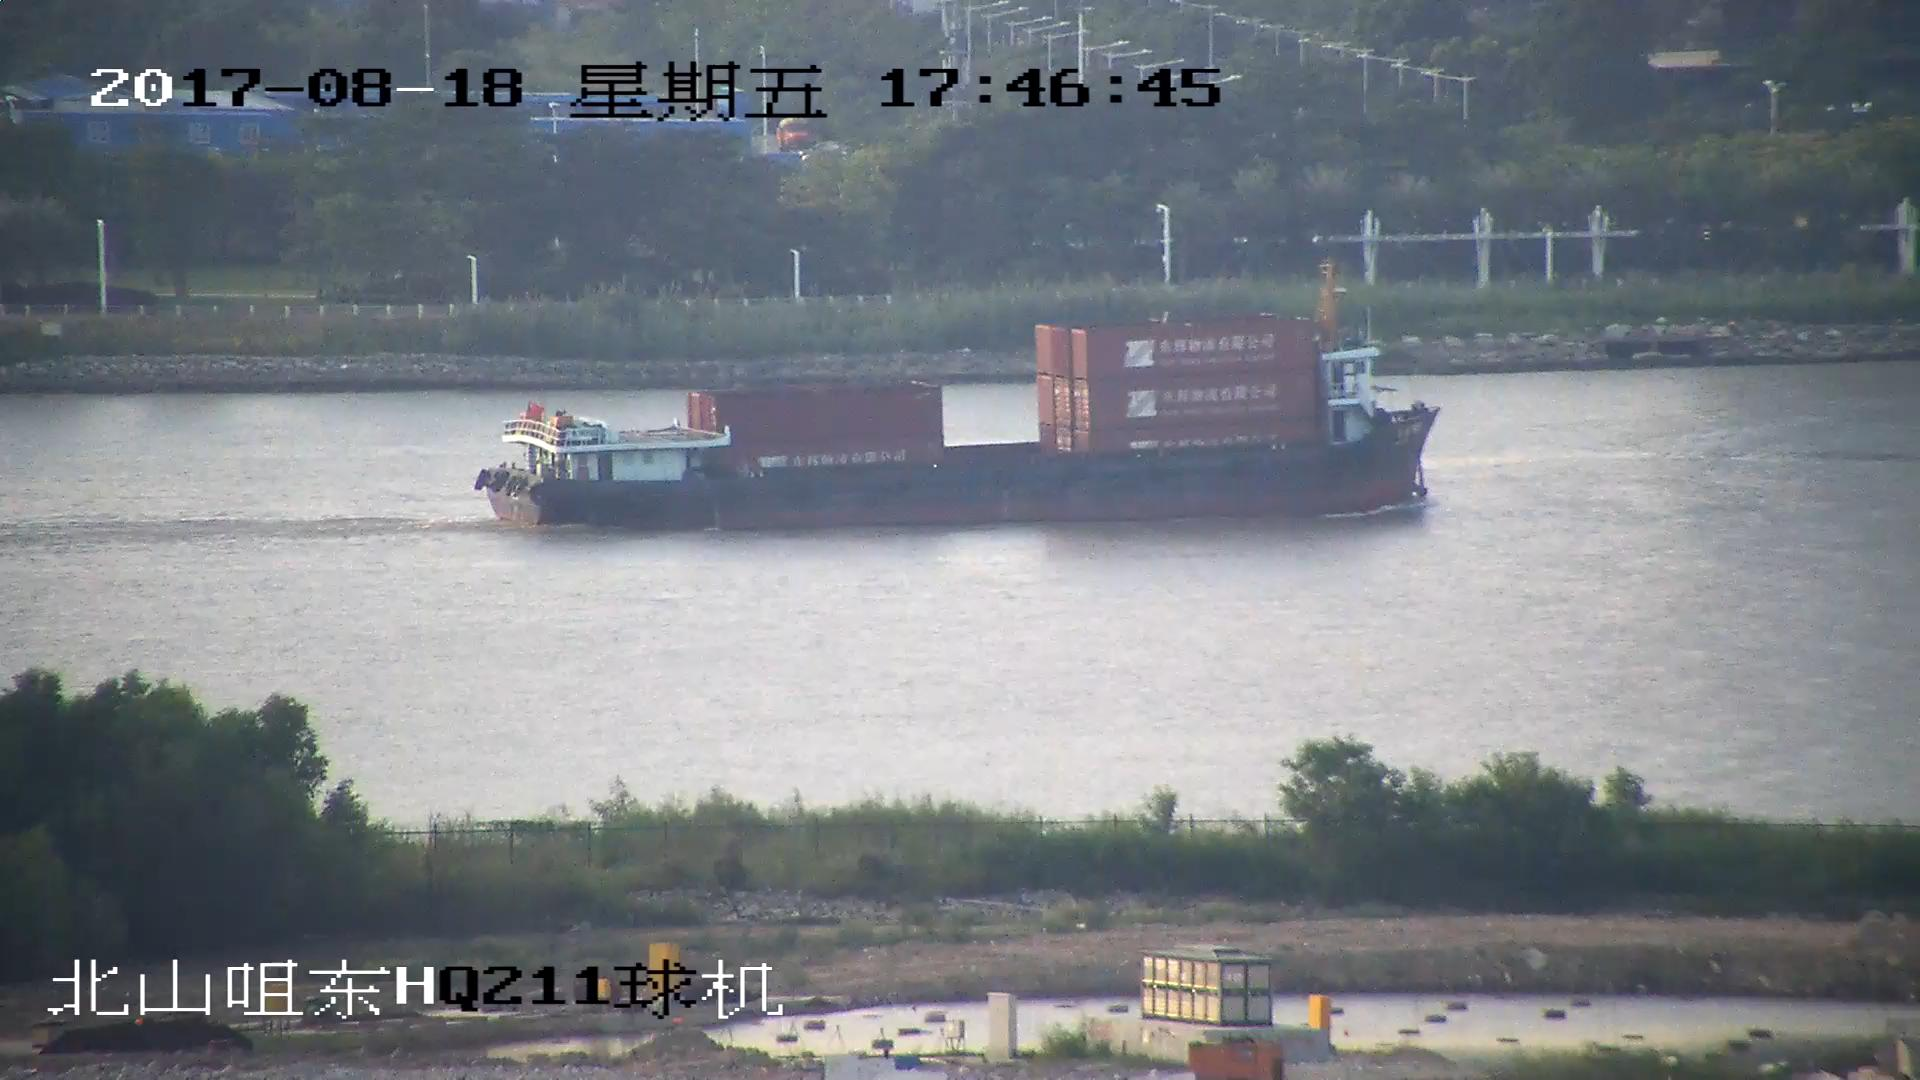container ship: (474, 260, 1440, 531)
